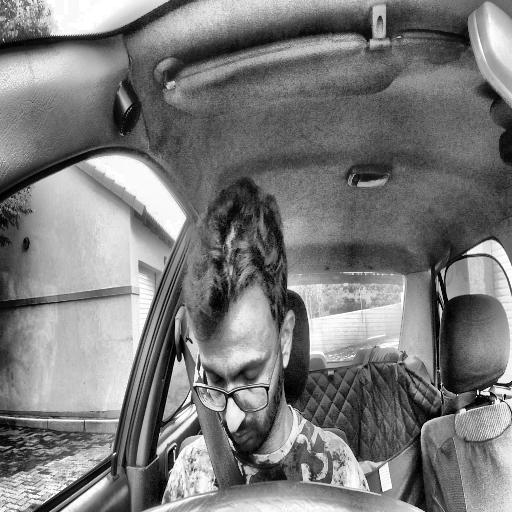drowsy: (185, 174, 295, 459)
